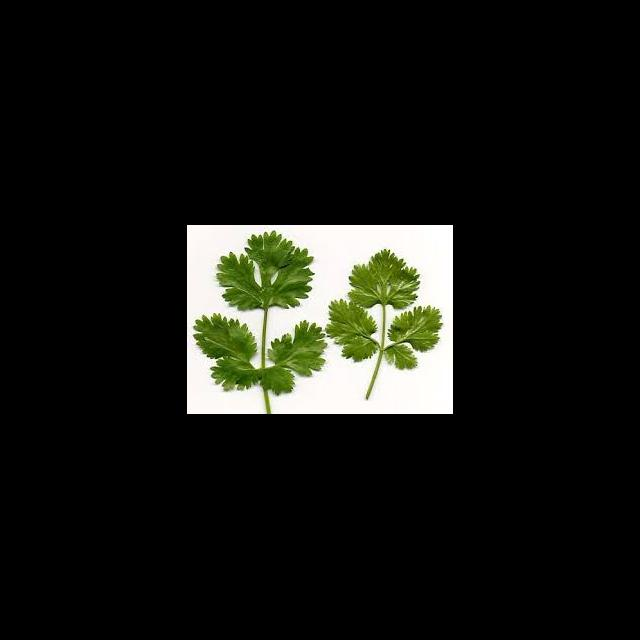cilantro: (192, 252, 442, 396), (212, 230, 315, 314)
